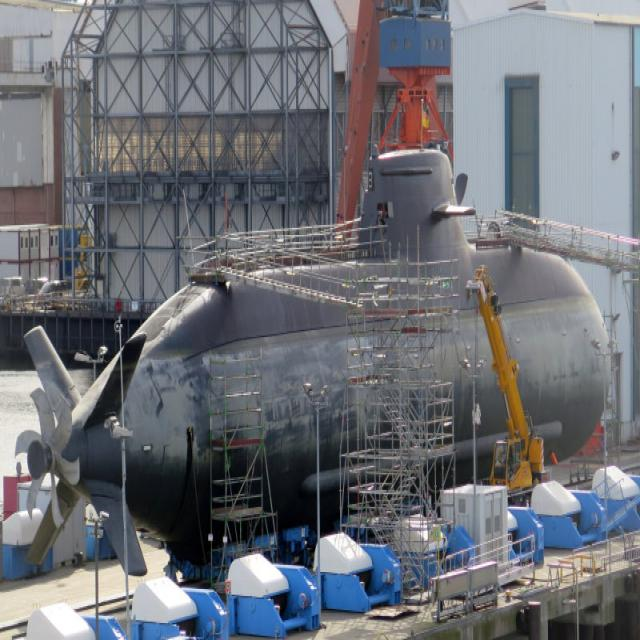submarine: (26, 114, 632, 563)
